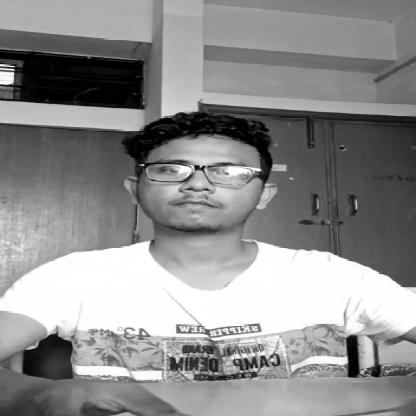Normal: (134, 115, 282, 233)
